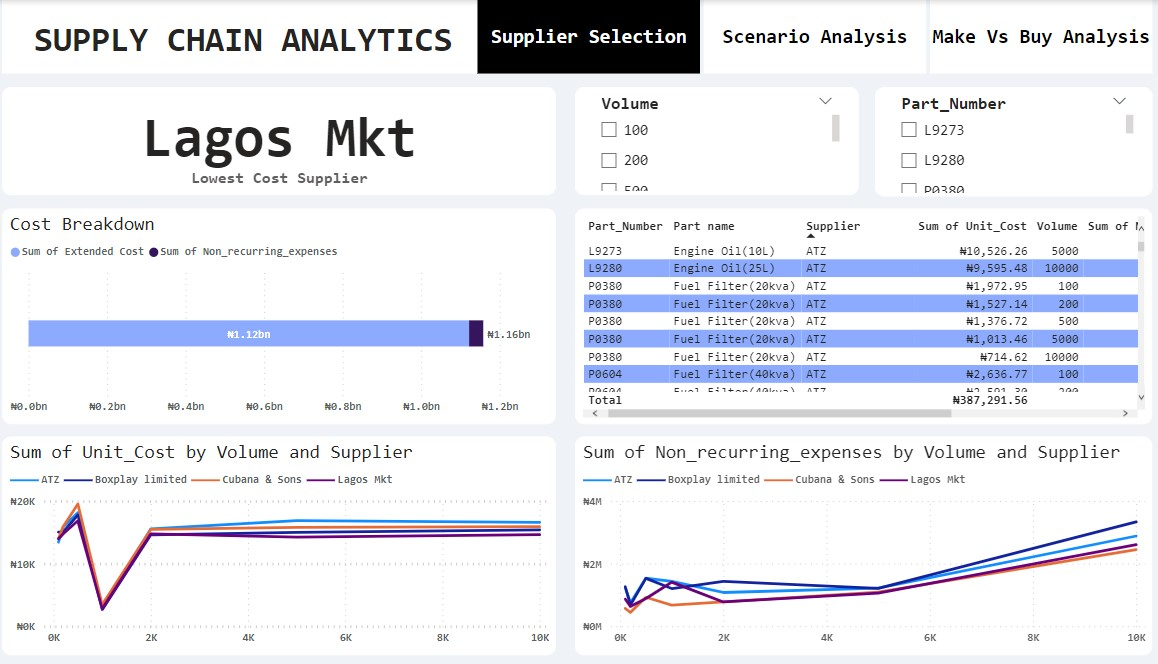

What the dashboard file says about the page in this screenshot:
{"tool":"powerbi","page":{"name":"Cost Analysis","canvas":[1280,720],"ordinal":0},"visuals":[{"type":"tableEx","fields":{"Values":["Quote.Part_Number","Quote.Part name","Quote.Supplier","Sum(Quote.Unit_Cost)","Quote.Volume","Sum(Quote.Non_recurring_expenses)","Quote.Full Cost"]},"box":[640.7,224.9,622.9,233],"z":0},{"type":"lineChart","fields":{"Category":["Quote.Volume"],"Y":["Sum(Quote.Unit_Cost)"],"Series":["Quote.Supplier"]},"box":[22.7,470.8,597,236.2],"z":1000},{"type":"lineChart","fields":{"Category":["Quote.Volume"],"Y":["Sum(Quote.Non_recurring_expenses)"],"Series":["Quote.Supplier"]},"box":[640.7,470.8,622.9,236.2],"z":2000},{"type":"slicer","fields":{"Values":["Quote.Part_Number"]},"box":[964.3,93.8,299.3,118.1],"z":3000},{"type":"slicer","fields":{"Values":["Quote.Volume"]},"box":[640.7,93.8,305.8,116.5],"z":4000},{"type":"card","fields":{"Values":["Min(Quote.Supplier)"]},"box":[22.7,93.8,597,116.5],"z":5000},{"type":"barChart","title":"Cost Breakdown","fields":{"Y":["Sum(Quote.Extended Cost)","Sum(Quote.Non_recurring_expenses)"]},"box":[22.7,224.9,597,233],"z":6000},{"type":"textbox","box":[22.7,0,512.9,79.3],"z":7000},{"type":"pageNavigator","box":[535.6,0,728.1,79.3],"z":8000}]}

Visuals, with their boxes in screenshot pixels (x1, y1, x2, y2), scaled from the page's 1280x720 canvas onto the 1158x664 screenshot:
tableEx - Quote.Part_Number x Quote.Part name: bbox=(580, 207, 1143, 422)
lineChart - Quote.Volume x Sum(Quote.Unit_Cost): bbox=(21, 434, 561, 652)
lineChart - Quote.Volume x Sum(Quote.Non_recurring_expenses): bbox=(580, 434, 1143, 652)
slicer - Quote.Part_Number: bbox=(872, 87, 1143, 195)
slicer - Quote.Volume: bbox=(580, 87, 856, 194)
card - Min(Quote.Supplier): bbox=(21, 87, 561, 194)
"Cost Breakdown" barChart: bbox=(21, 207, 561, 422)
textbox: bbox=(21, 0, 485, 73)
pageNavigator: bbox=(485, 0, 1143, 73)
